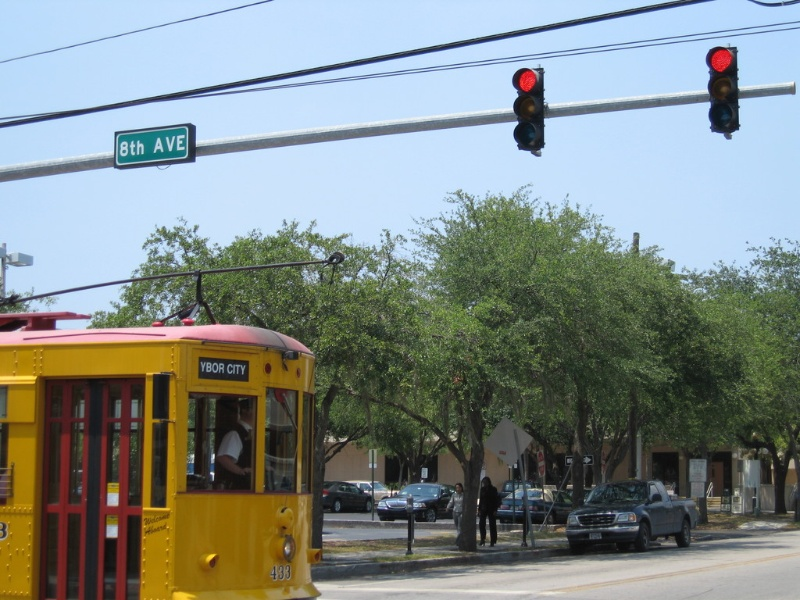red_light: (701, 44, 744, 78), (508, 64, 548, 96)
